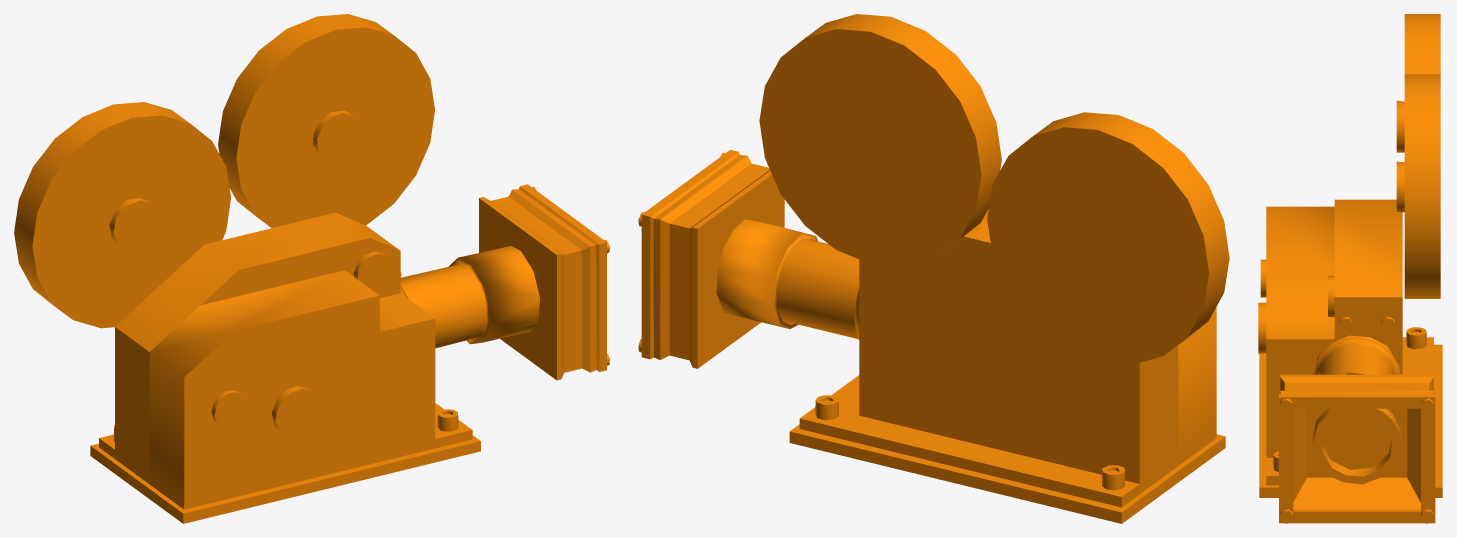
Rendered from camera-orange-back.glb.
The picture shows the model from 3 angles, left to right: view 1: azimuth 30°, elevation 25°; view 2: azimuth 150°, elevation 25°; view 3: azimuth 270°, elevation 25°; orthographic projection. The views are drawn at different scales.
Visible parts, largest first — view 1: camera; view 2: camera; view 3: camera.
Boxes of the visible parts, bbox=[...] form: camera: bbox=[14, 14, 609, 523]; camera: bbox=[638, 14, 1229, 523]; camera: bbox=[1258, 14, 1442, 523].
Bounding box in the file's own units: 1.4 × 1 × 0.4403.
